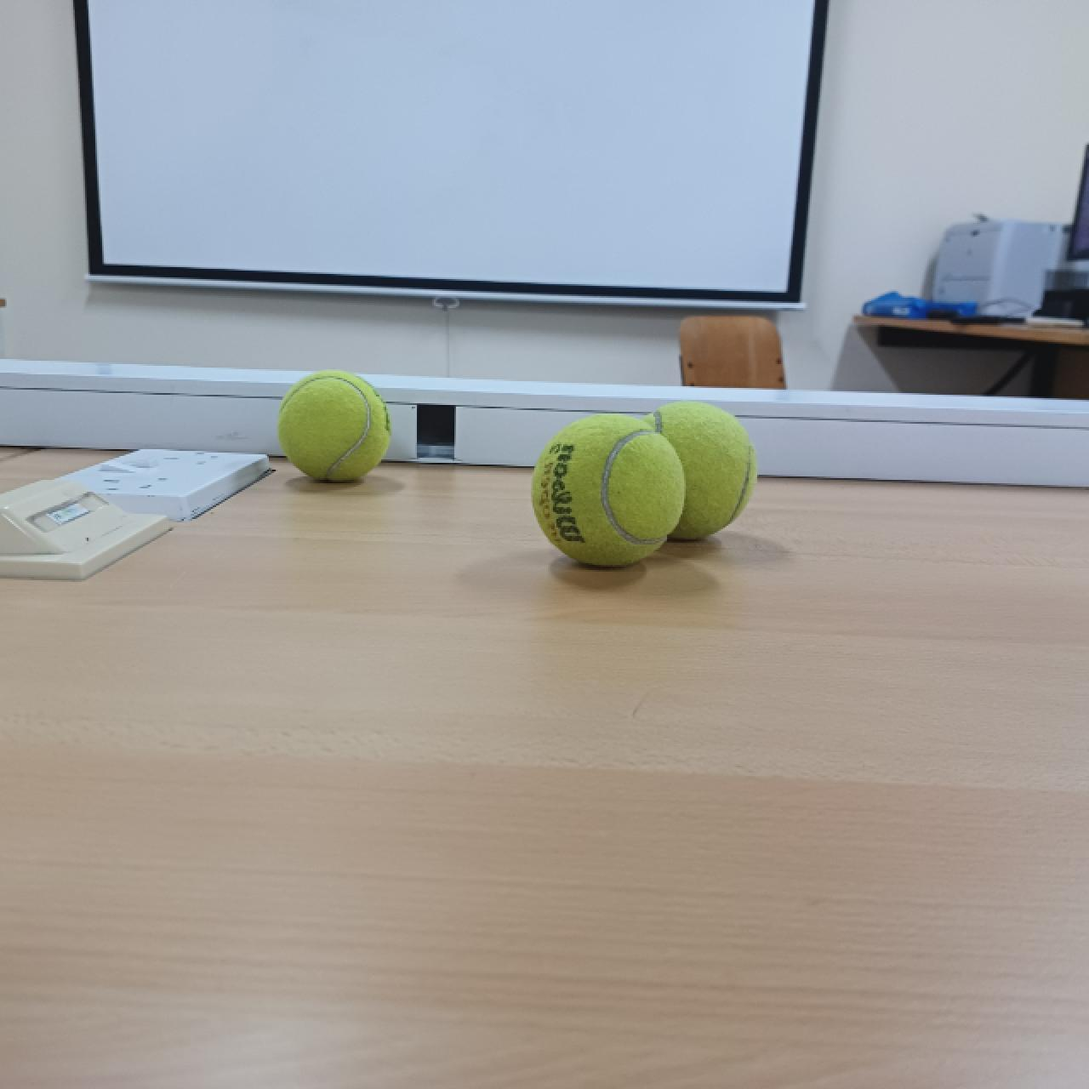tennis-ball: (530, 412, 685, 568), (626, 399, 758, 546), (277, 369, 390, 486)
